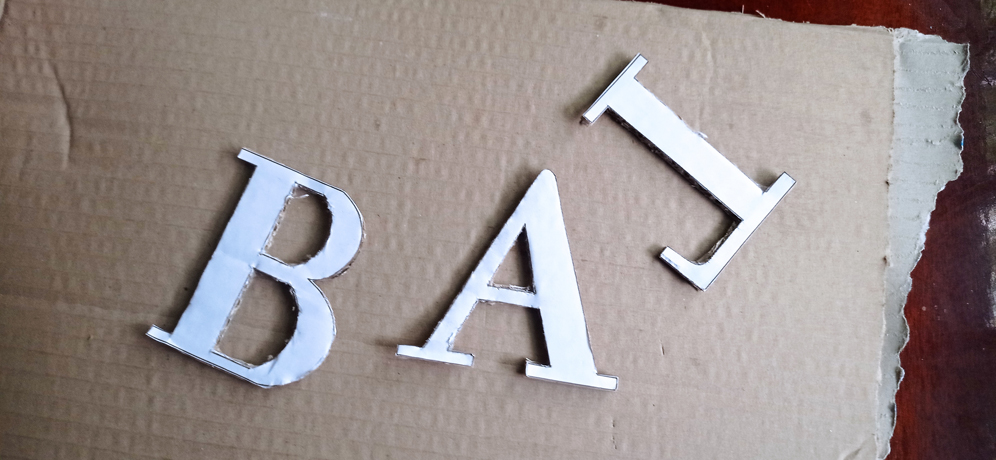a: (394, 168, 620, 393)
g: (580, 52, 798, 292)
v: (146, 146, 366, 395)
